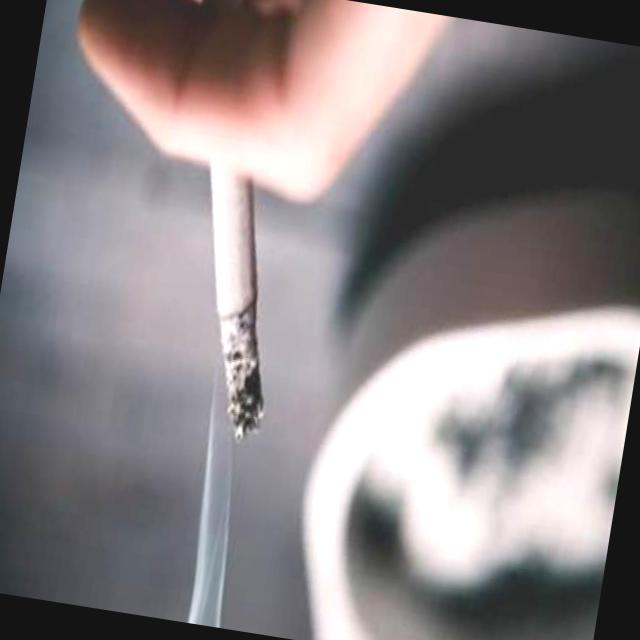smoke: (159, 167, 302, 445)
